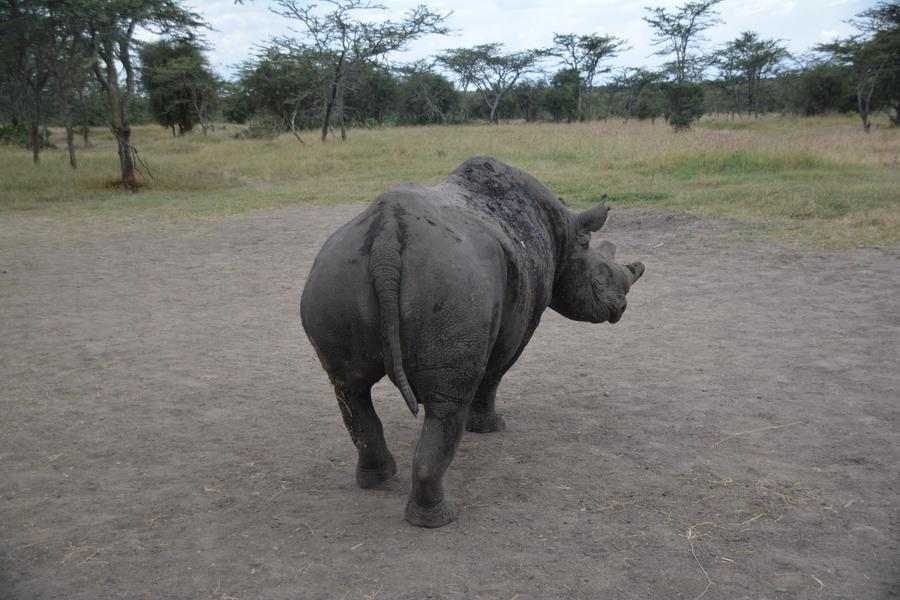rhino: (304, 148, 602, 470)
